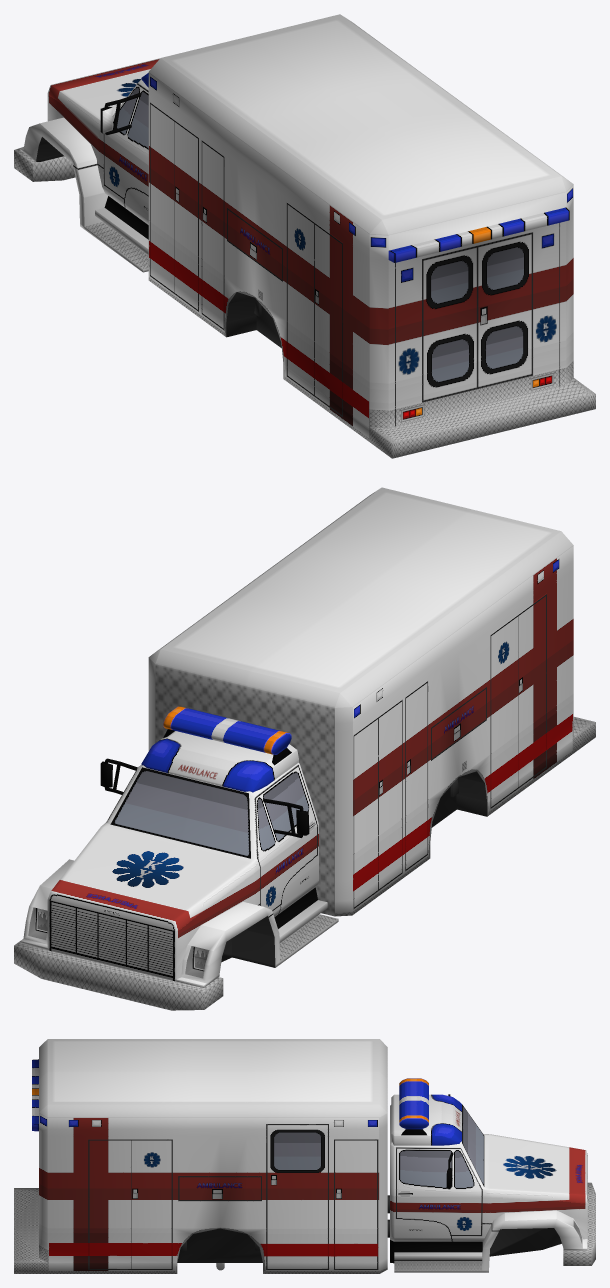
File: 93frieghtlignerambulancefire.fbx
The picture shows the model from 3 angles, top to bottom: view 1: azimuth 30°, elevation 25°; view 2: azimuth 150°, elevation 25°; view 3: azimuth 270°, elevation 25°; orthographic projection. The views are drawn at different scales.
Parts seen in each view (by area): view 1: FL70ambulance; view 2: FL70ambulance; view 3: FL70ambulance.
Boxes of the visible parts, x1,y1,x2,y2 form: FL70ambulance: [14, 14, 595, 458]; FL70ambulance: [14, 487, 595, 1010]; FL70ambulance: [14, 1039, 595, 1273].
Bounding box in the file's own units: 2.52 × 2.73 × 8.17.
